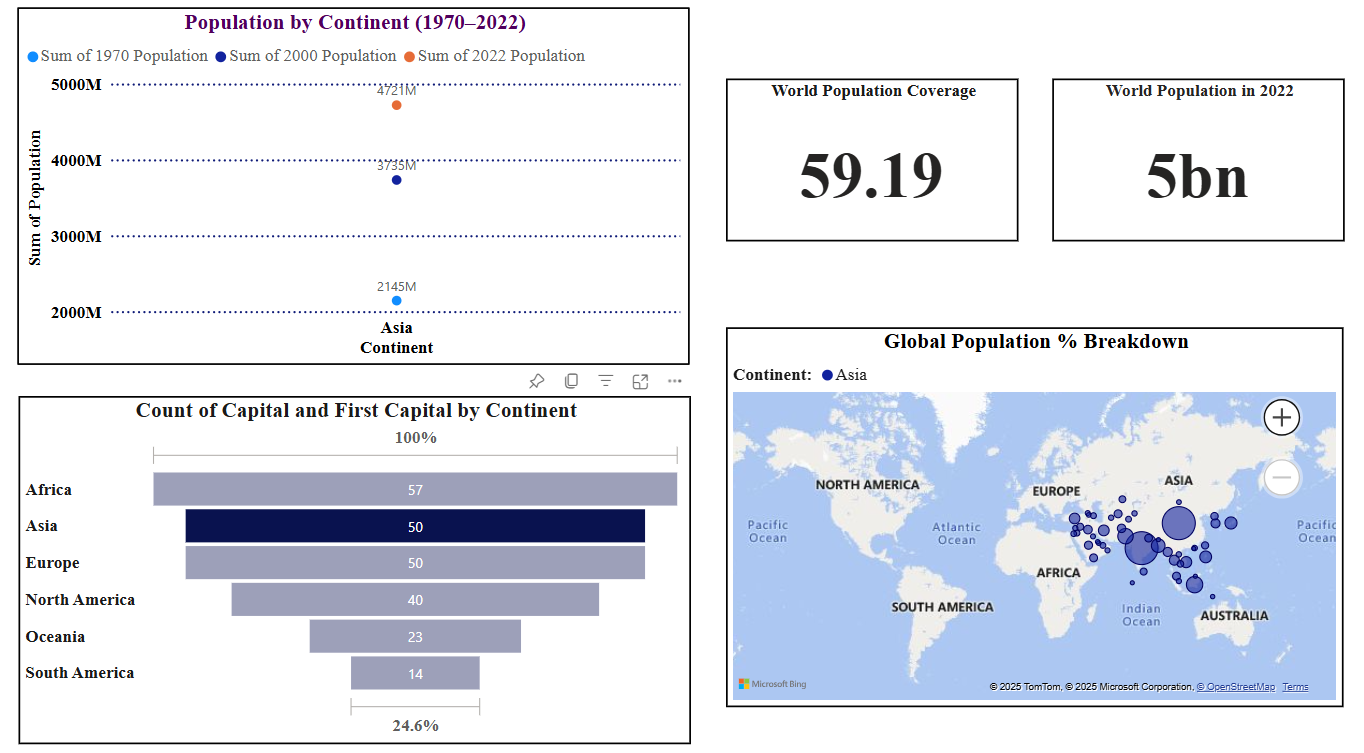

What the dashboard file says about the page in this screenshot:
{"tool":"powerbi","page":{"name":"Page 1","canvas":[1280,720],"ordinal":0},"visuals":[{"type":"lineChart","title":"Population by Continent (1970–2022)","fields":{"Y":["Sum(world_population.1970 Population)","Sum(world_population.2000 Population)","Sum(world_population.2022 Population)"],"Category":["world_population.Continent"]},"box":[34.3,11,627.1,333.4],"z":0},{"type":"map","title":"Global Population % Breakdown","fields":{"Category":["world_population.Country/Territory"],"Series":["world_population.Continent"],"Size":["Sum(world_population.World Population Percentage)"]},"box":[695.4,308.5,576,354.5],"z":2000},{"type":"card","title":"World Population in 2022","fields":{"Values":["Sum(world_population.2022 Population)"]},"box":[998.9,77.1,272.4,151.8],"z":3000},{"type":"card","title":"World Population Coverage","fields":{"Values":["Sum(world_population.World Population Percentage)"]},"box":[695.4,77.1,272.4,151.8],"z":4000},{"type":"funnel","fields":{"Category":["world_population.Continent"],"Y":["CountNonNull(world_population.Capital)"]},"box":[34.8,373.2,627,324.7],"z":5000}]}

Visuals, with their boxes in screenshot pixels (x1, y1, x2, y2), scaled from the page's 1280x720 canvas onto the 1364x753 screenshot:
"Population by Continent (1970–2022)" lineChart: 37, 12, 705, 360
"Global Population % Breakdown" map: 741, 323, 1355, 693
"World Population in 2022" card: 1064, 81, 1355, 239
"World Population Coverage" card: 741, 81, 1031, 239
funnel - world_population.Continent x CountNonNull(world_population.Capital): 37, 390, 705, 730
